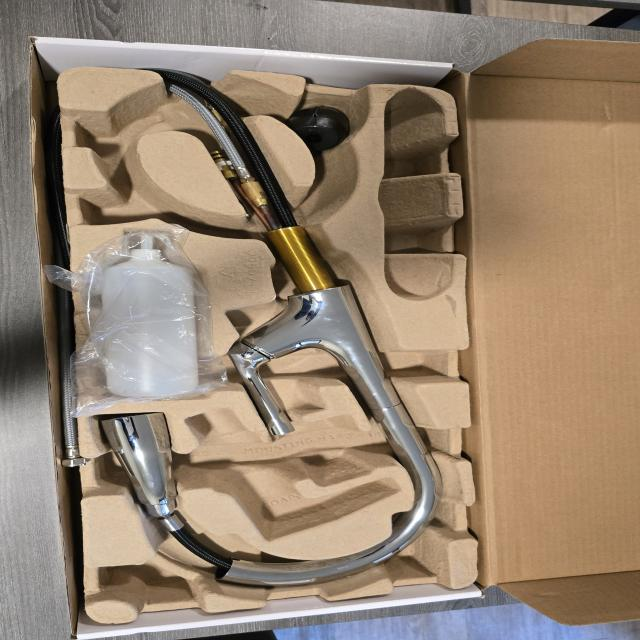1: (101, 69, 444, 586)
2m: (182, 409, 400, 540)
3: (103, 233, 200, 398)
4m: (377, 89, 453, 298)
5: (286, 107, 353, 152)
6m: (67, 93, 171, 163)
7m: (84, 171, 203, 231)
